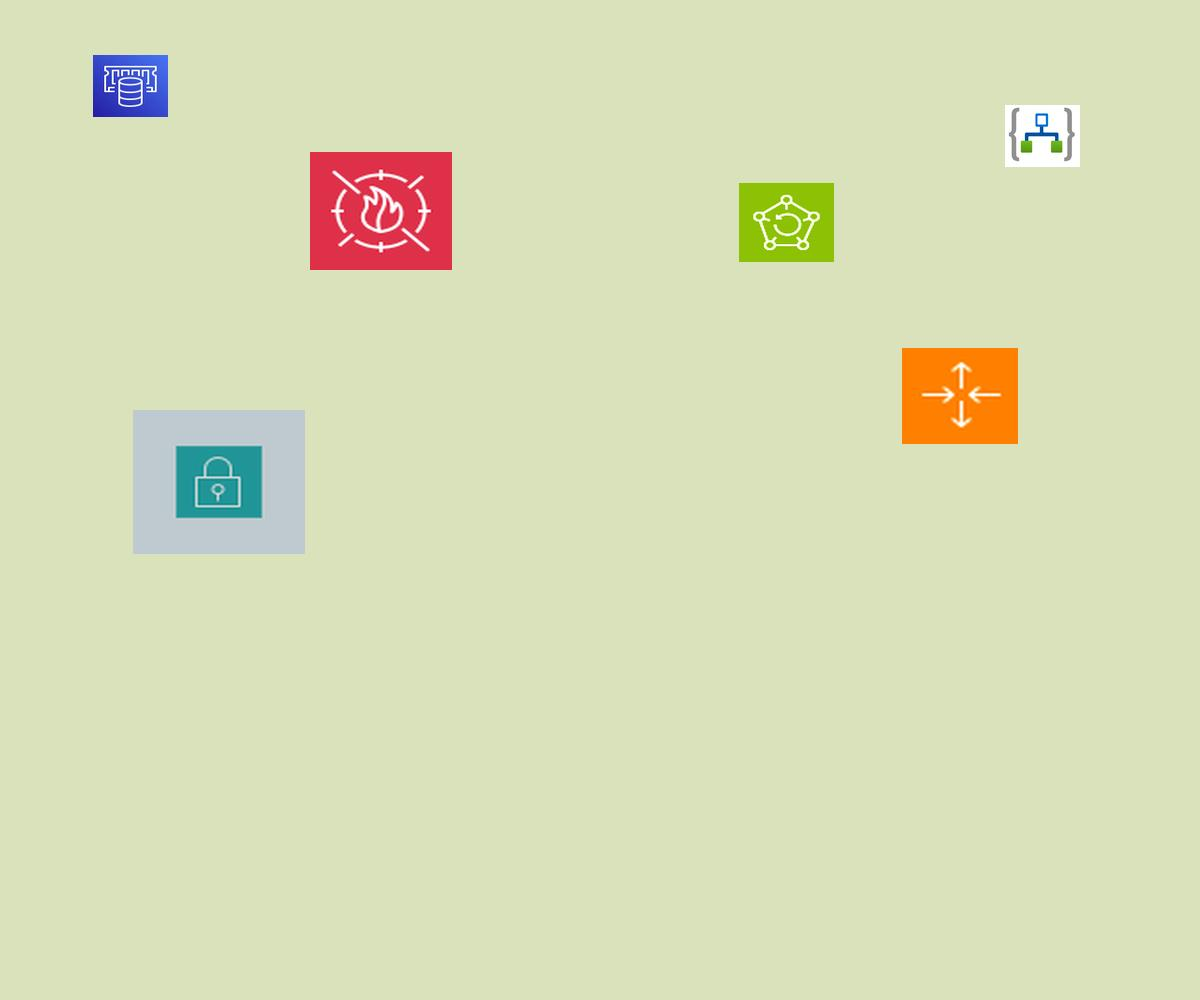AWS-Backup: (739, 183, 834, 262)
AWS-ElastiCache: (93, 55, 168, 117)
AWS-Private-subnet: (133, 410, 305, 554)
AWS-Scaling-group: (902, 348, 1018, 444)
AWS-WAF: (310, 152, 452, 270)
Azure_integration-204-Logic-Apps: (1005, 105, 1080, 167)
